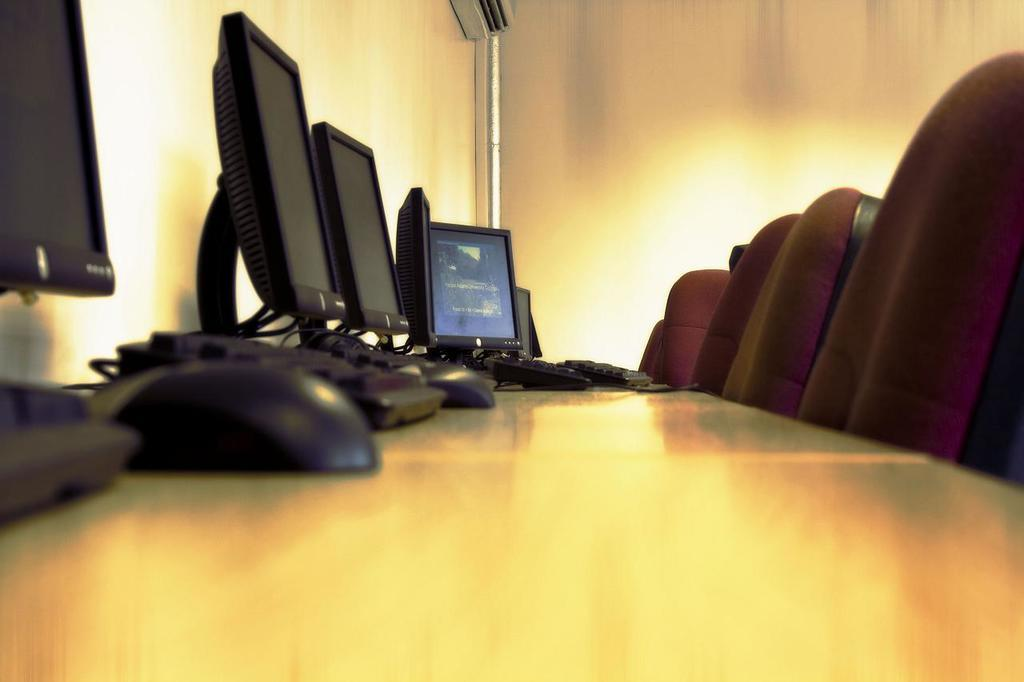Computer-mouse: (102, 361, 386, 471), (389, 355, 497, 413)
